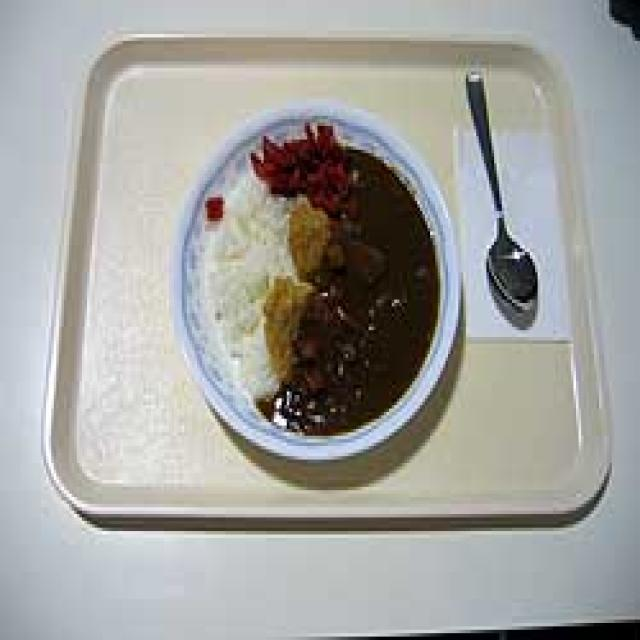牛肉菜式: (171, 98, 461, 460)
